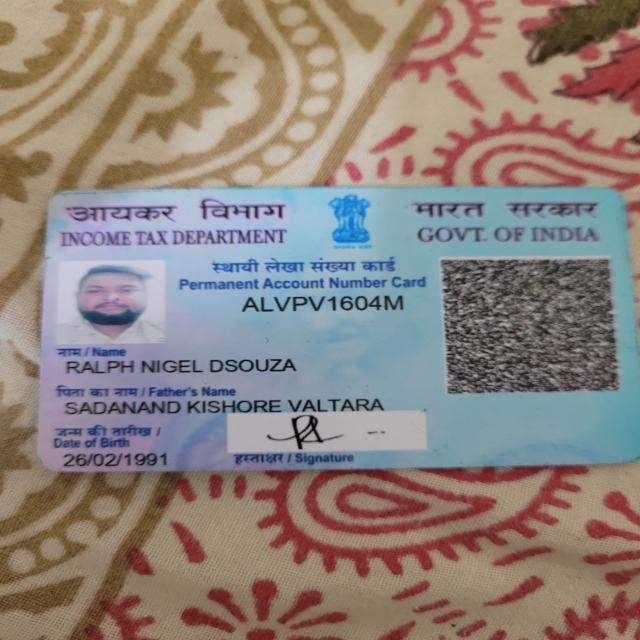pan_card: (47, 189, 632, 472)
